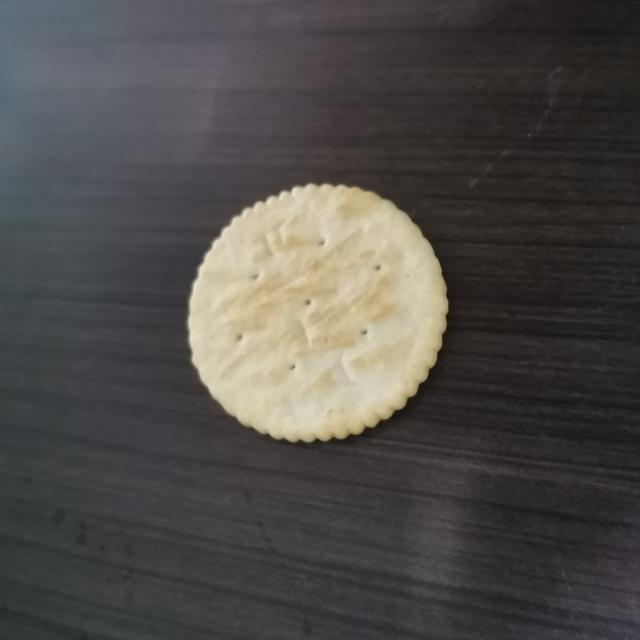Intact: (177, 173, 466, 458)
